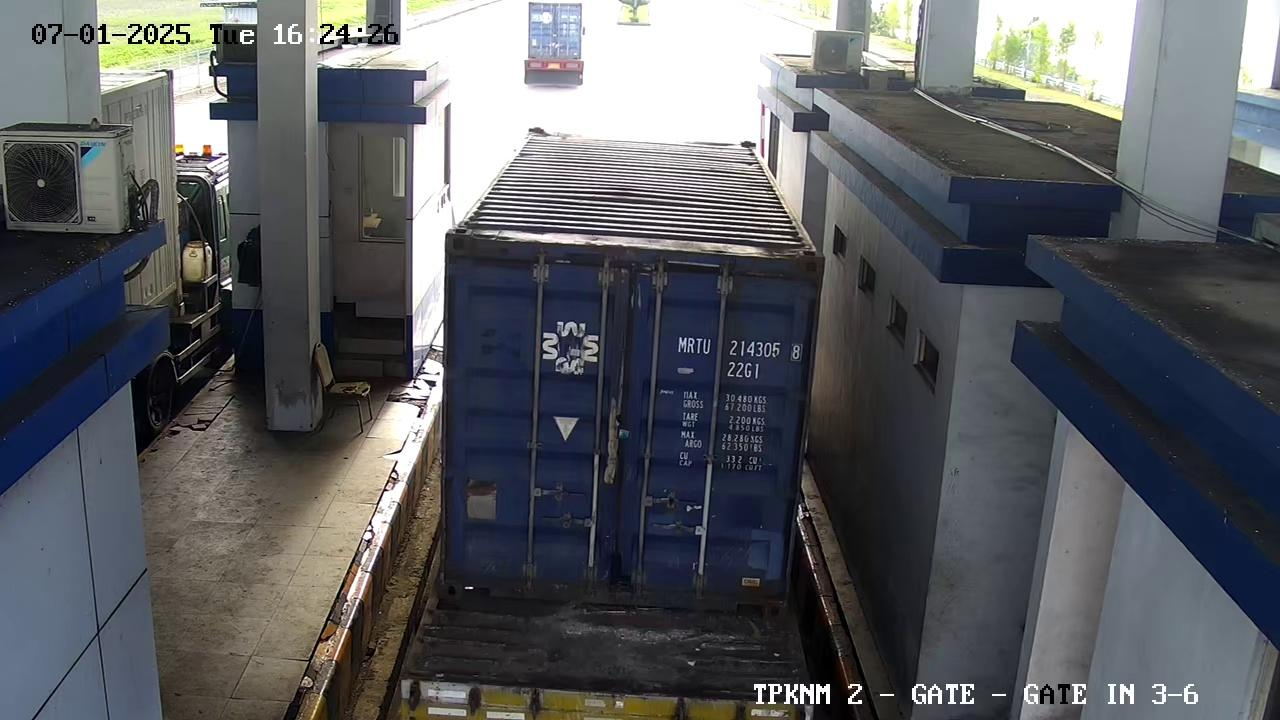Container_ID: (670, 328, 817, 362)
